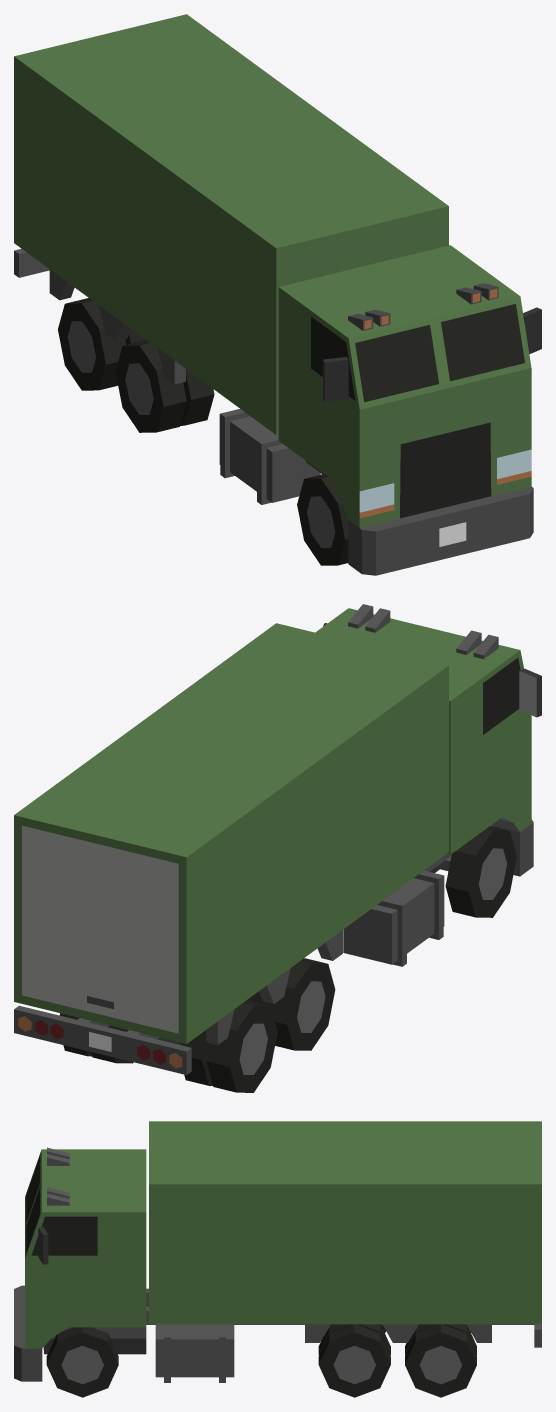
The model's file is Veh_Truck_03_Green.obj.
3 renders of one model, top to bottom at view 1: azimuth 30°, elevation 25°; view 2: azimuth 150°, elevation 25°; view 3: azimuth 270°, elevation 25°, orthographic. The views are drawn at different scales.
Bounding box in the file's own units: 1.68 × 2.11 × 4.74.
